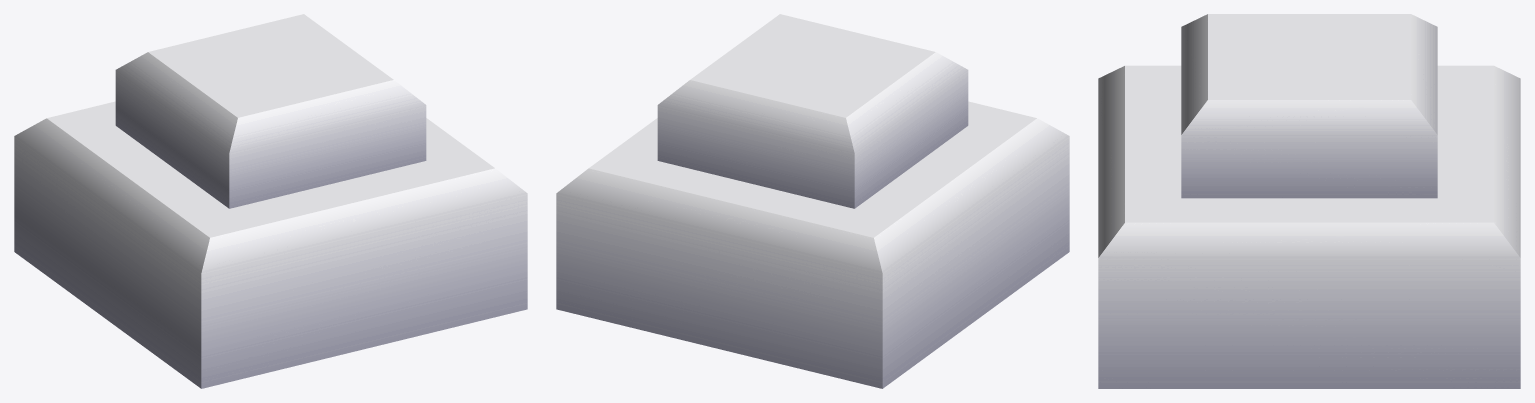
File: square_hq_plate_1x1.glb
The picture shows the model from 3 angles, left to right: view 1: azimuth 30°, elevation 25°; view 2: azimuth 150°, elevation 25°; view 3: azimuth 270°, elevation 25°; orthographic projection. The views are drawn at different scales.
Visible parts, largest first — view 1: square-hq-plate-1x1; view 2: square-hq-plate-1x1; view 3: square-hq-plate-1x1.
Boxes of the visible parts, bbox=[...] form: square-hq-plate-1x1: bbox=[14, 14, 527, 388]; square-hq-plate-1x1: bbox=[556, 14, 1069, 388]; square-hq-plate-1x1: bbox=[1098, 14, 1520, 388].
Size of the model in its own units: 0.0795 by 0.05 by 0.079.
Materials: 1 (1 with a texture image).
